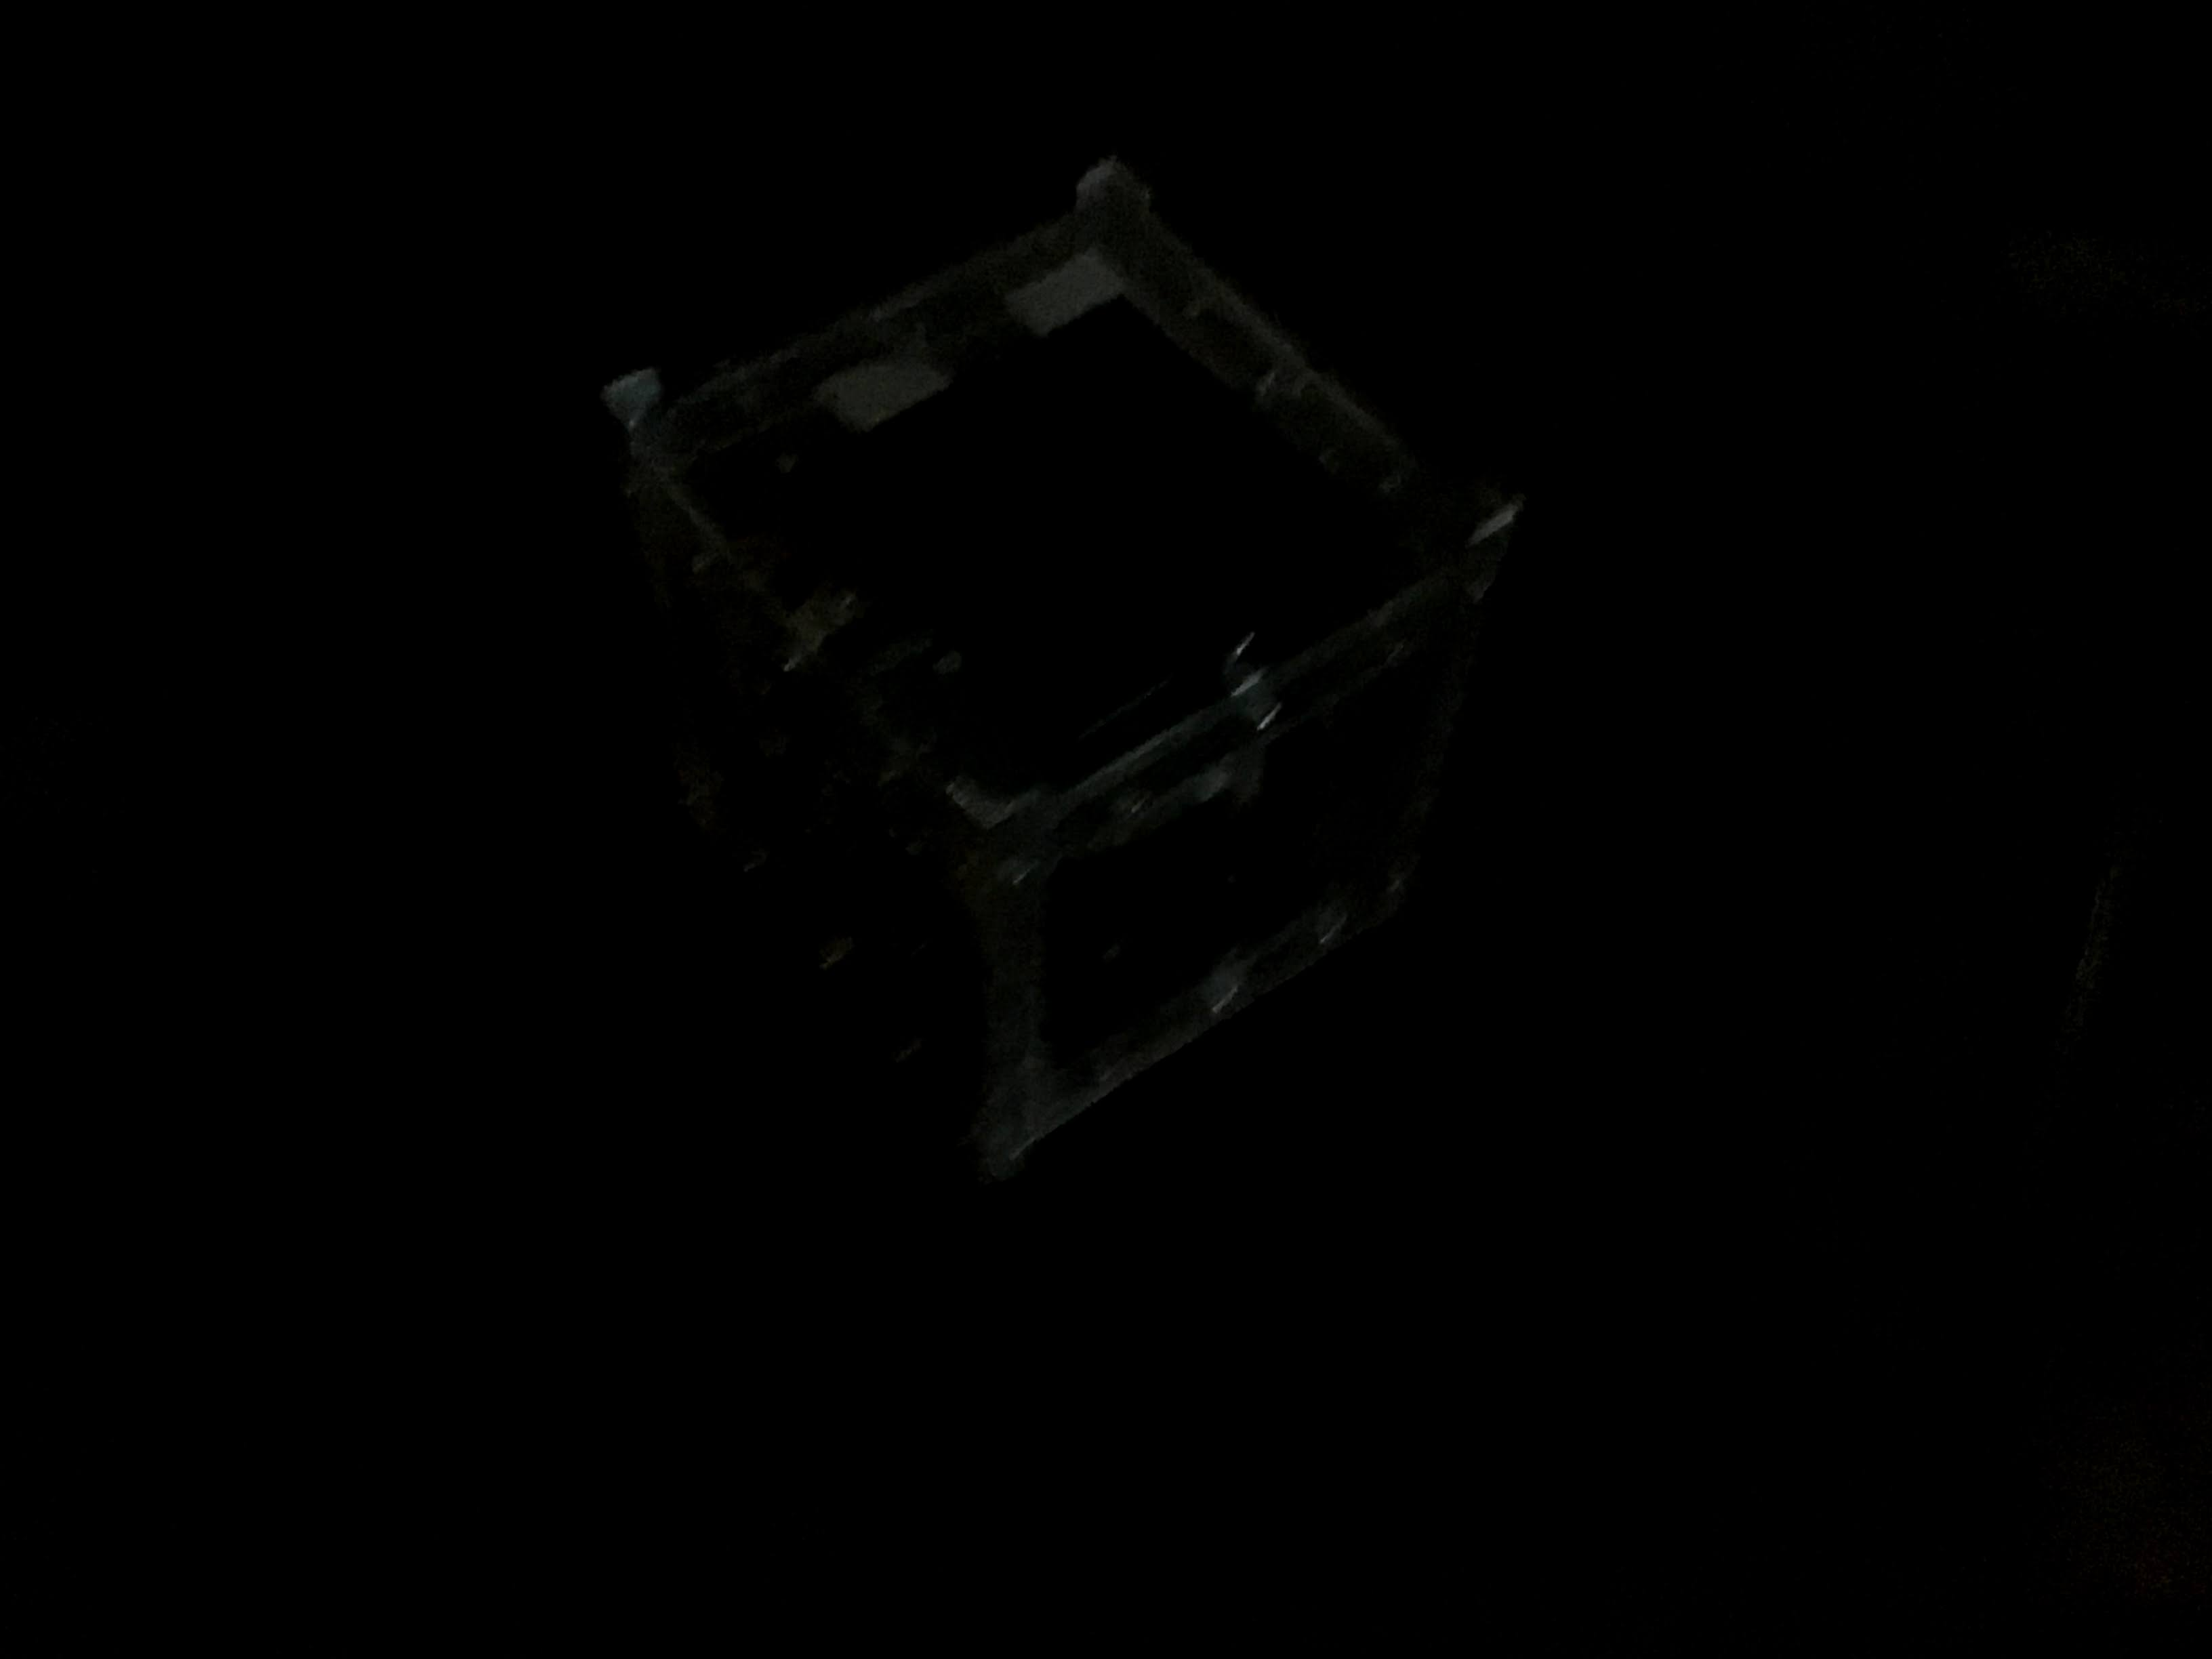Space-debris-cubesat: (550, 138, 1595, 1201)
